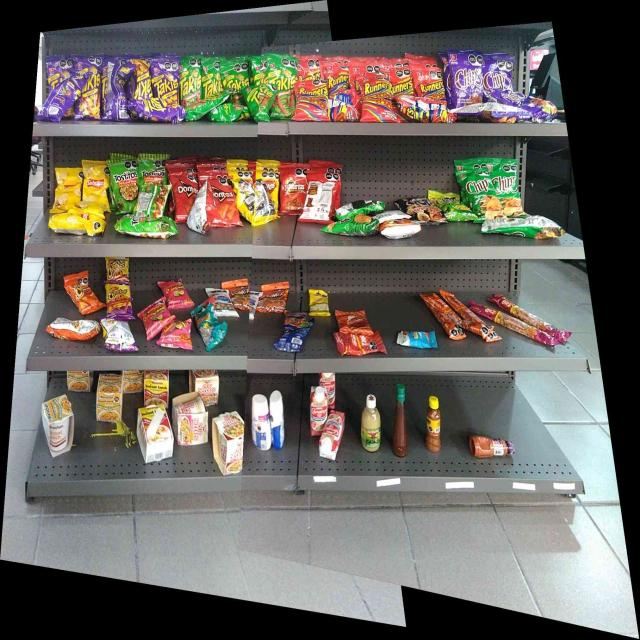bitzAlmendras: (400, 331, 435, 348)
bitzEnchilado90: (338, 334, 382, 354), (338, 310, 369, 332)
bitzEnchilado95: (433, 290, 474, 327)
bitzHabanero: (492, 296, 569, 341)
bokadosCacahuates: (286, 310, 308, 328)
botaneraChilito: (426, 395, 441, 452)
cheetosFlaminHot: (106, 282, 132, 316), (106, 257, 130, 280)
cheetosOriginal: (65, 276, 101, 310)
chipsFuego: (450, 64, 482, 102), (484, 62, 513, 90), (490, 92, 553, 104)
chipsJalapeno: (469, 170, 497, 217), (499, 165, 520, 216)
chipsPapatinas: (438, 196, 467, 219)
churrumais: (166, 321, 192, 348), (164, 282, 190, 306), (142, 304, 164, 327)
delPrimoSalsa: (361, 393, 382, 453)
doritosNacho: (212, 179, 236, 226), (173, 172, 192, 222)
leoCacahuates: (216, 288, 230, 316)
leoMix: (262, 285, 285, 312), (232, 279, 249, 309)
maruchanPollo: (43, 395, 73, 454), (97, 373, 123, 425)
maruchanRes: (138, 404, 172, 458), (144, 371, 169, 403)
nestleCarnation: (329, 410, 345, 460), (310, 387, 327, 429)
nestleLechera: (251, 394, 269, 450), (270, 391, 286, 449)
nissinCamaron: (174, 395, 209, 444)
nissinRes: (213, 411, 242, 474)
popKarameladas: (404, 198, 436, 220)
productoAtras: (39, 78, 76, 122), (106, 60, 128, 121), (488, 218, 562, 236), (456, 105, 528, 122), (102, 318, 136, 352), (304, 180, 337, 214), (52, 317, 98, 340), (137, 185, 169, 218), (193, 182, 209, 234), (236, 179, 254, 221), (255, 181, 272, 222), (277, 331, 304, 352)
rancheritos: (280, 168, 303, 213)
rufflesQueso: (328, 216, 375, 234)
runners: (360, 76, 390, 121), (296, 80, 327, 120), (413, 67, 444, 99), (391, 66, 413, 95), (328, 64, 350, 91)
sabritasOriginal: (52, 212, 104, 234), (55, 168, 82, 210), (84, 160, 108, 202)
salsaBufalo: (392, 383, 408, 457)
semillasCalabaza: (310, 290, 330, 316)
semillasGirasol: (196, 306, 215, 351)
tajinDulce: (470, 434, 516, 458)
takisFuego: (78, 56, 100, 120), (130, 100, 182, 120), (153, 61, 178, 98), (130, 59, 152, 97)
takisOriginal: (273, 58, 293, 118), (224, 61, 248, 103), (182, 59, 200, 101), (202, 58, 222, 92), (259, 85, 272, 121), (200, 93, 223, 109)
tostitos: (116, 162, 136, 213), (118, 219, 171, 237), (139, 156, 167, 183)
